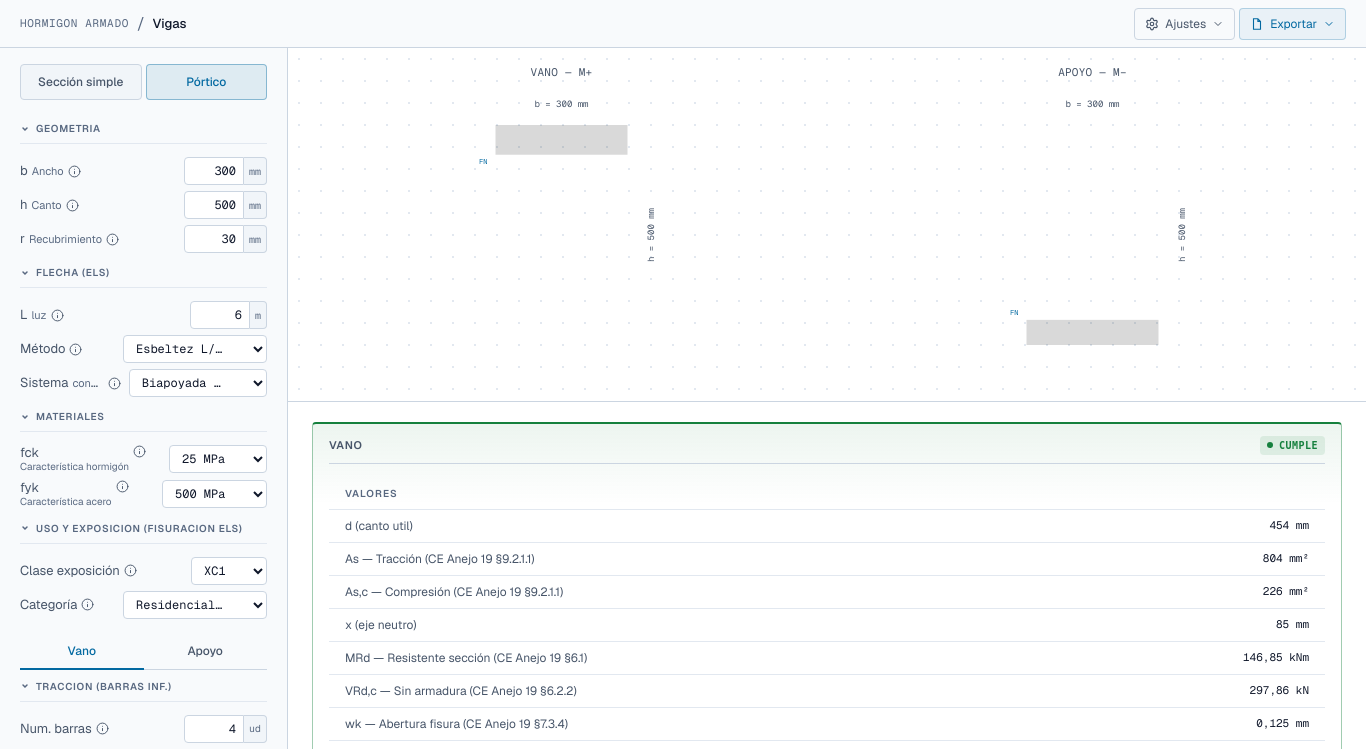
Test case: Módulo de pieza — «Guardar en el anejo» desde el desplegable › el de Vigas añade el DXF del cuadro de plano, sin mover los otros dos
Click the button labelled "Exportar" at (1293, 24), box 1239,8 -> 1346,40
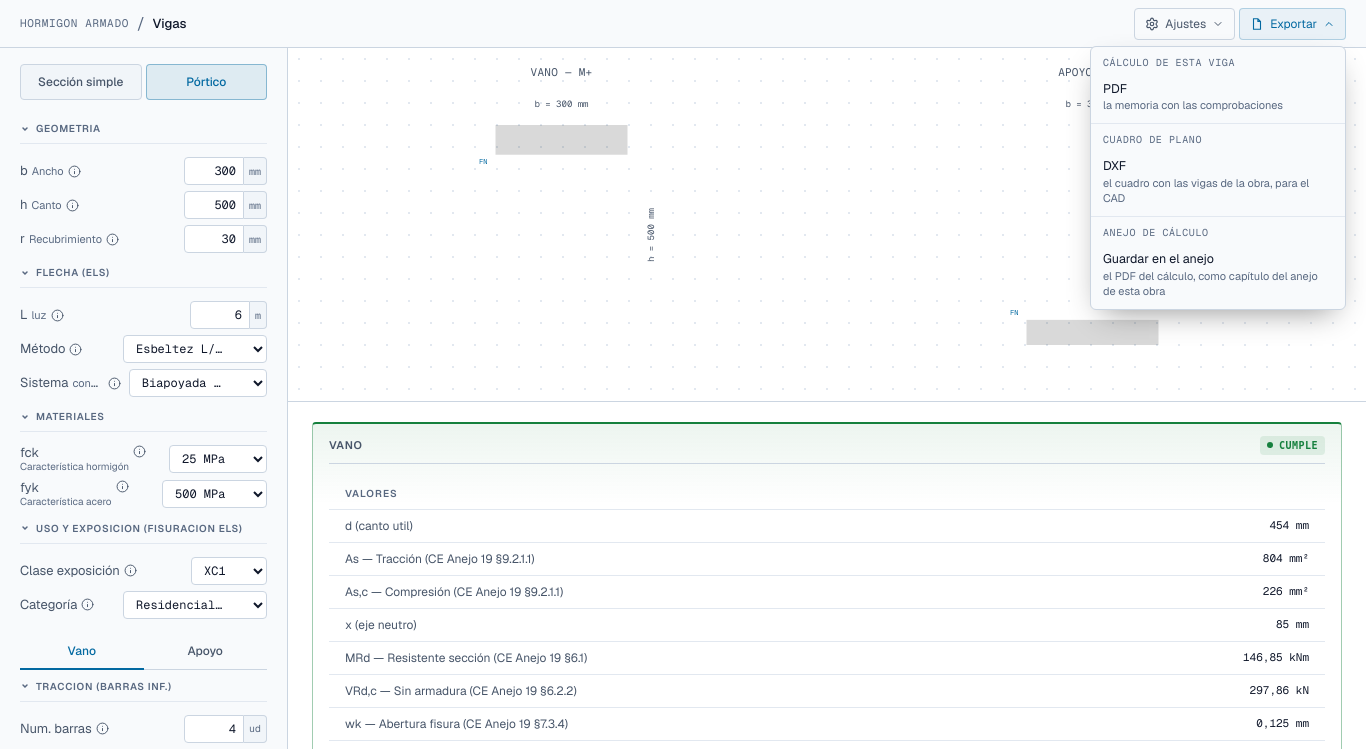
Check: the number of menu items is 3, box 1091,74 -> 1345,119; 1091,151 -> 1345,212; 1091,244 -> 1345,305
Check: the menu item "PDF la memoria con las comprobaciones" is shown, box 1091,74 -> 1345,119
Check: the menu item "DXF el cuadro con las vigas de la obra, para el CAD" is shown, box 1091,151 -> 1345,212
